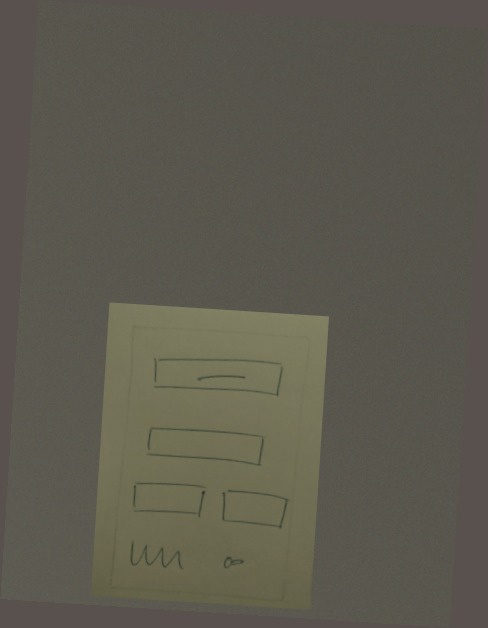button: (147, 351, 287, 400)
switch: (214, 548, 249, 576)
text: (123, 533, 190, 580)
text_input: (141, 421, 269, 473), (214, 483, 293, 534), (129, 473, 209, 521)
